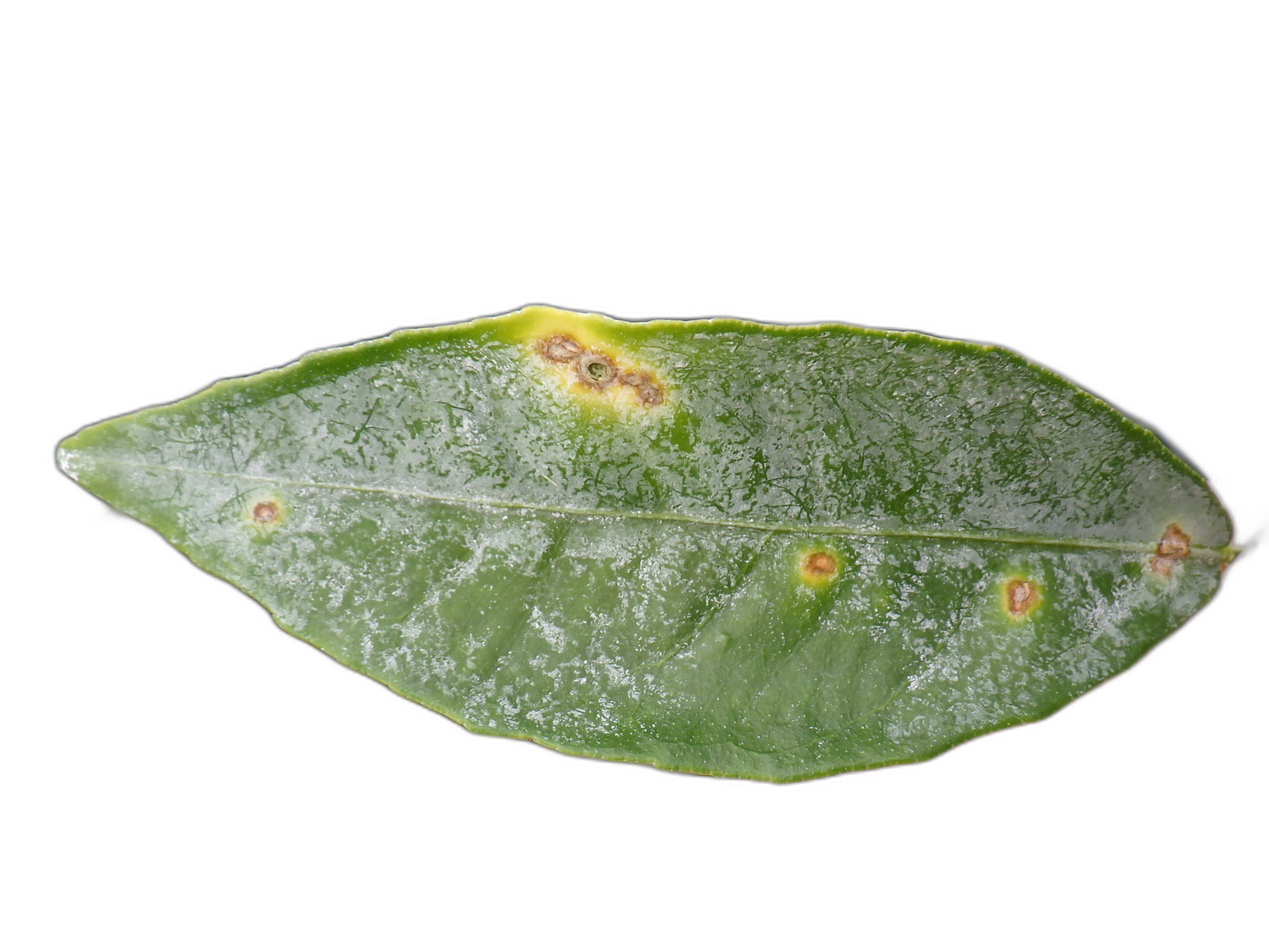Canker: (532, 332, 665, 407), (1151, 524, 1191, 574), (1004, 578, 1037, 616), (804, 550, 840, 576), (252, 498, 279, 527)
